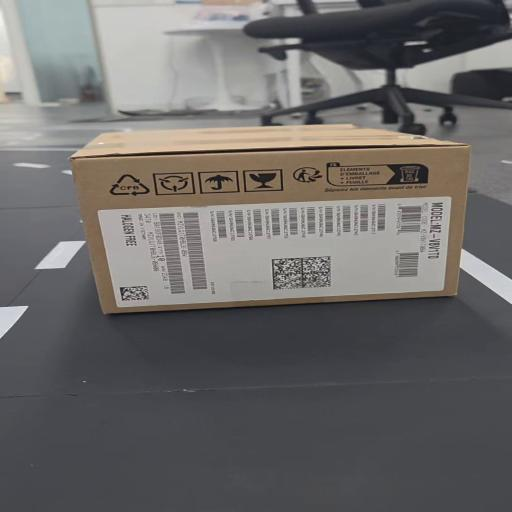Box: (73, 123, 481, 316)
